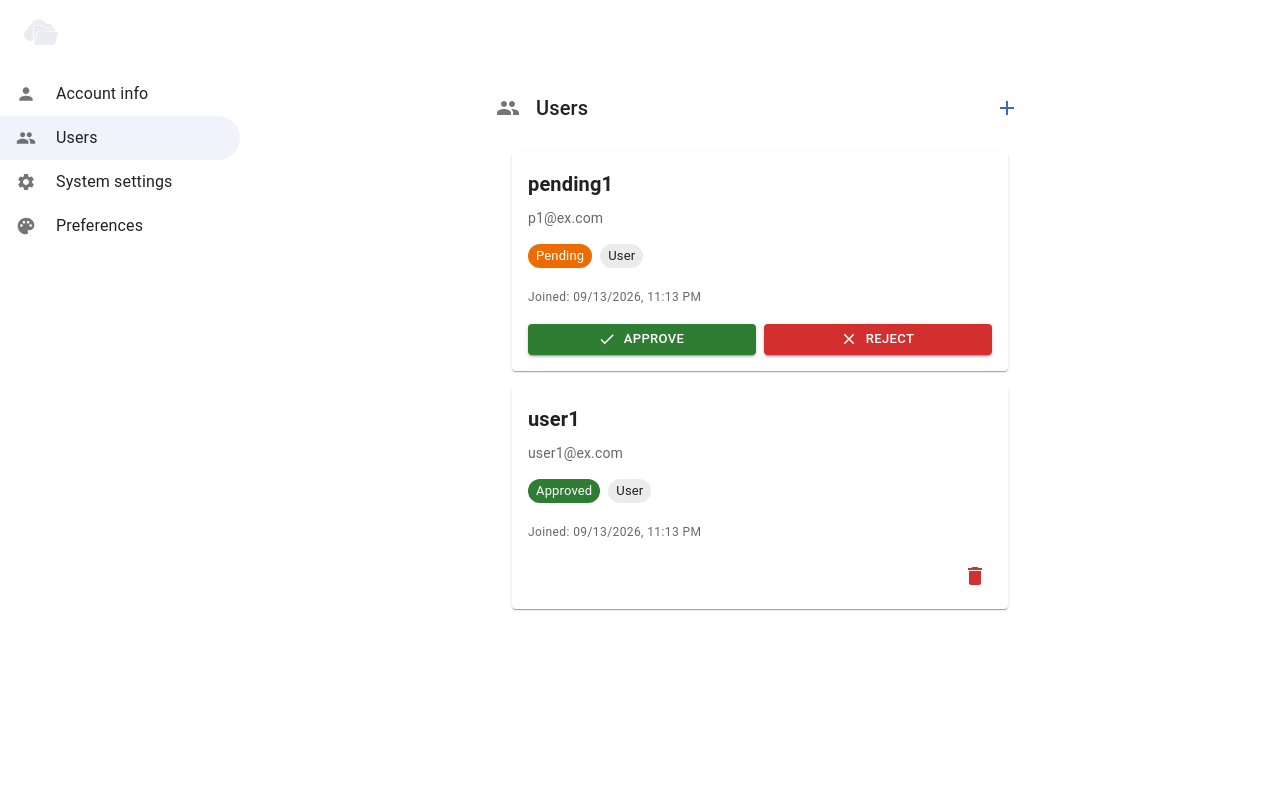
Test: MyPage Admin categories (User Management, System Settings) › admin: shows System Settings when Settings category selected
Click the button "System settings" at (94, 182), box top-left (16, 172), bottom-right (172, 192)
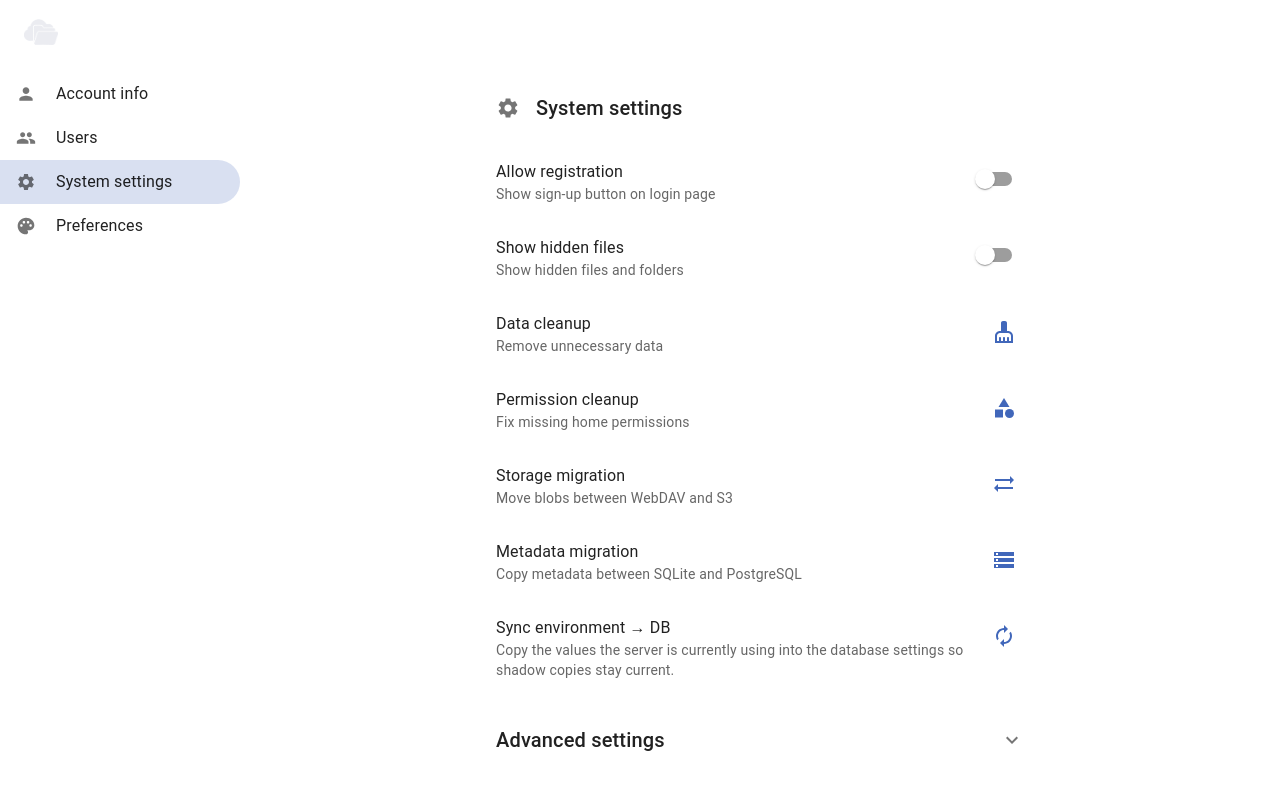
Now the heading "System settings" is shown, box top-left (536, 96), bottom-right (682, 120)
